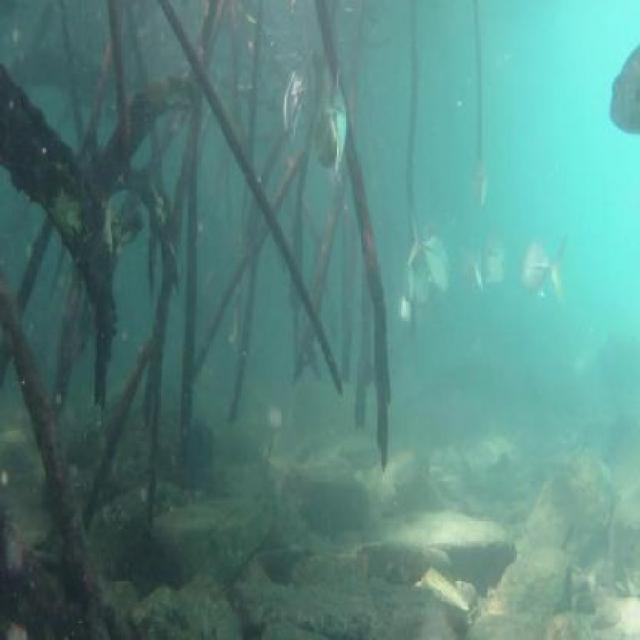Caranx_sexfasciatus_juvenile: (406, 199, 452, 306), (321, 67, 357, 182), (606, 34, 640, 155), (518, 229, 570, 308), (279, 64, 315, 142), (482, 233, 508, 299), (452, 232, 480, 292), (468, 152, 494, 212)
